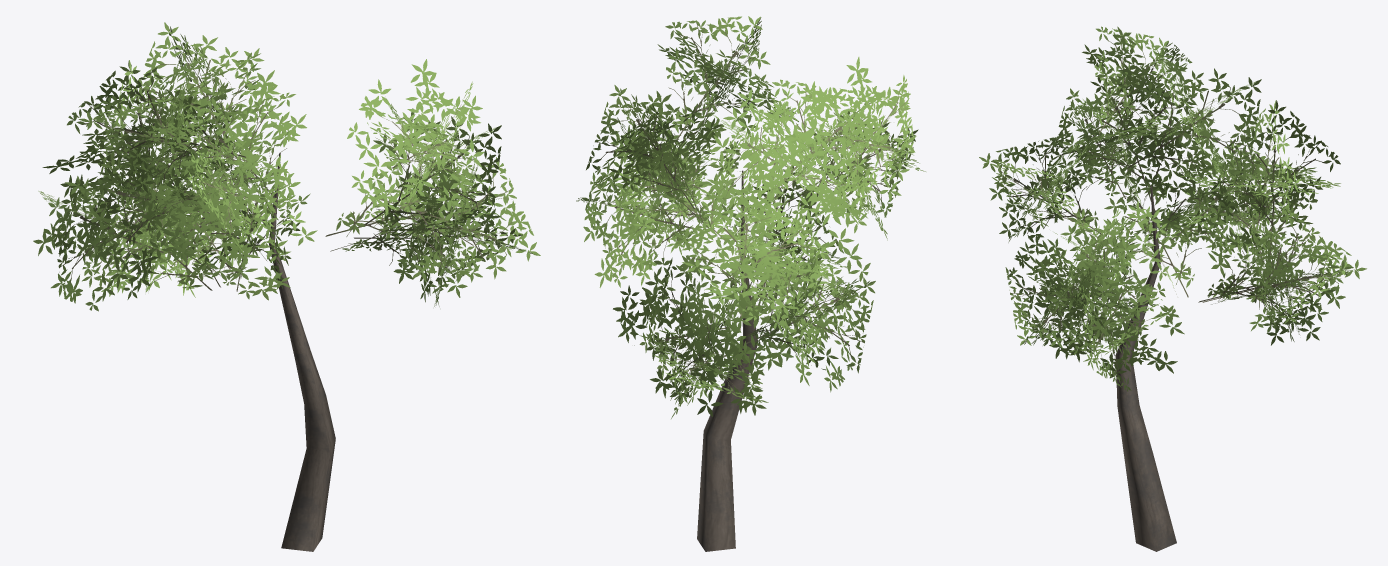
File: tree_Shrub_Oak_LOD1.fbx
3 views of the same model, side by side, from view 1: azimuth 30°, elevation 25°; view 2: azimuth 150°, elevation 25°; view 3: azimuth 270°, elevation 25° (orthographic). The views are drawn at different scales.
Parts seen in each view (by area): view 1: Shrub_Oak_LOD1; view 2: Shrub_Oak_LOD1; view 3: Shrub_Oak_LOD1.
Part boxes in pixels (x1,y1,x2,y2): Shrub_Oak_LOD1: (33,22,540,551); Shrub_Oak_LOD1: (576,16,925,551); Shrub_Oak_LOD1: (979,26,1366,551).
Bounding box in the file's own units: 397 × 518 × 387.
